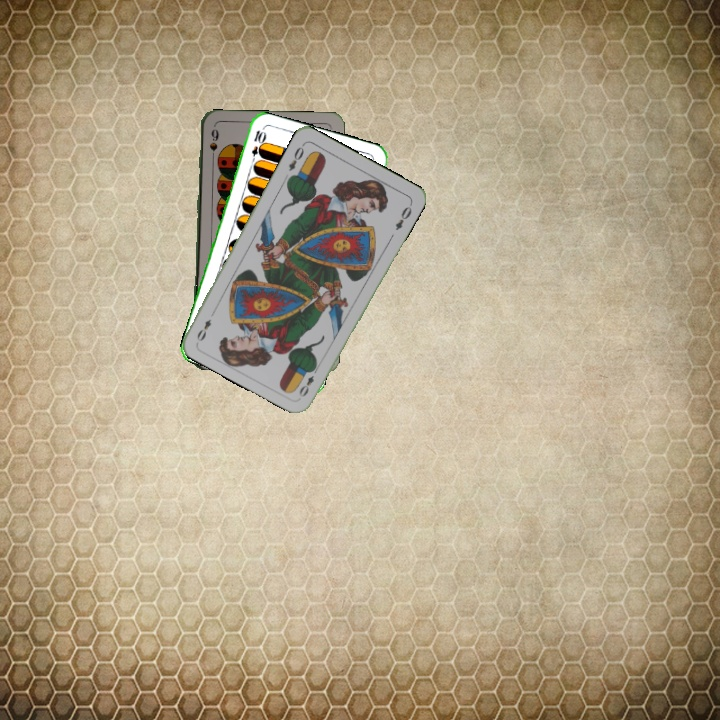E10: (247, 126, 266, 167)
EO: (295, 362, 321, 400), (284, 140, 307, 174)
S9: (206, 126, 219, 165)
